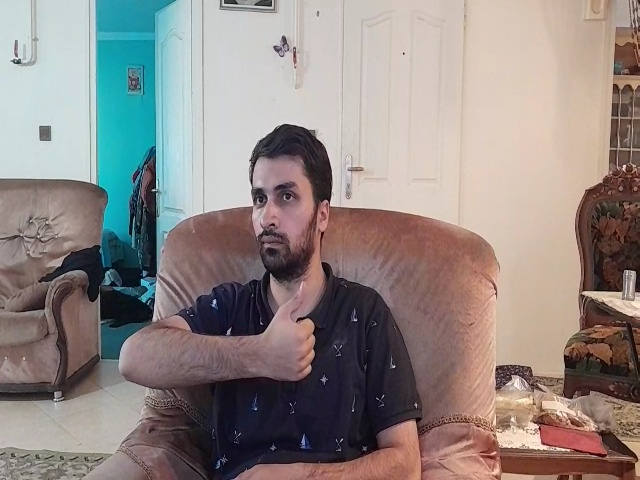ThumbsUp: (254, 279, 317, 384)
